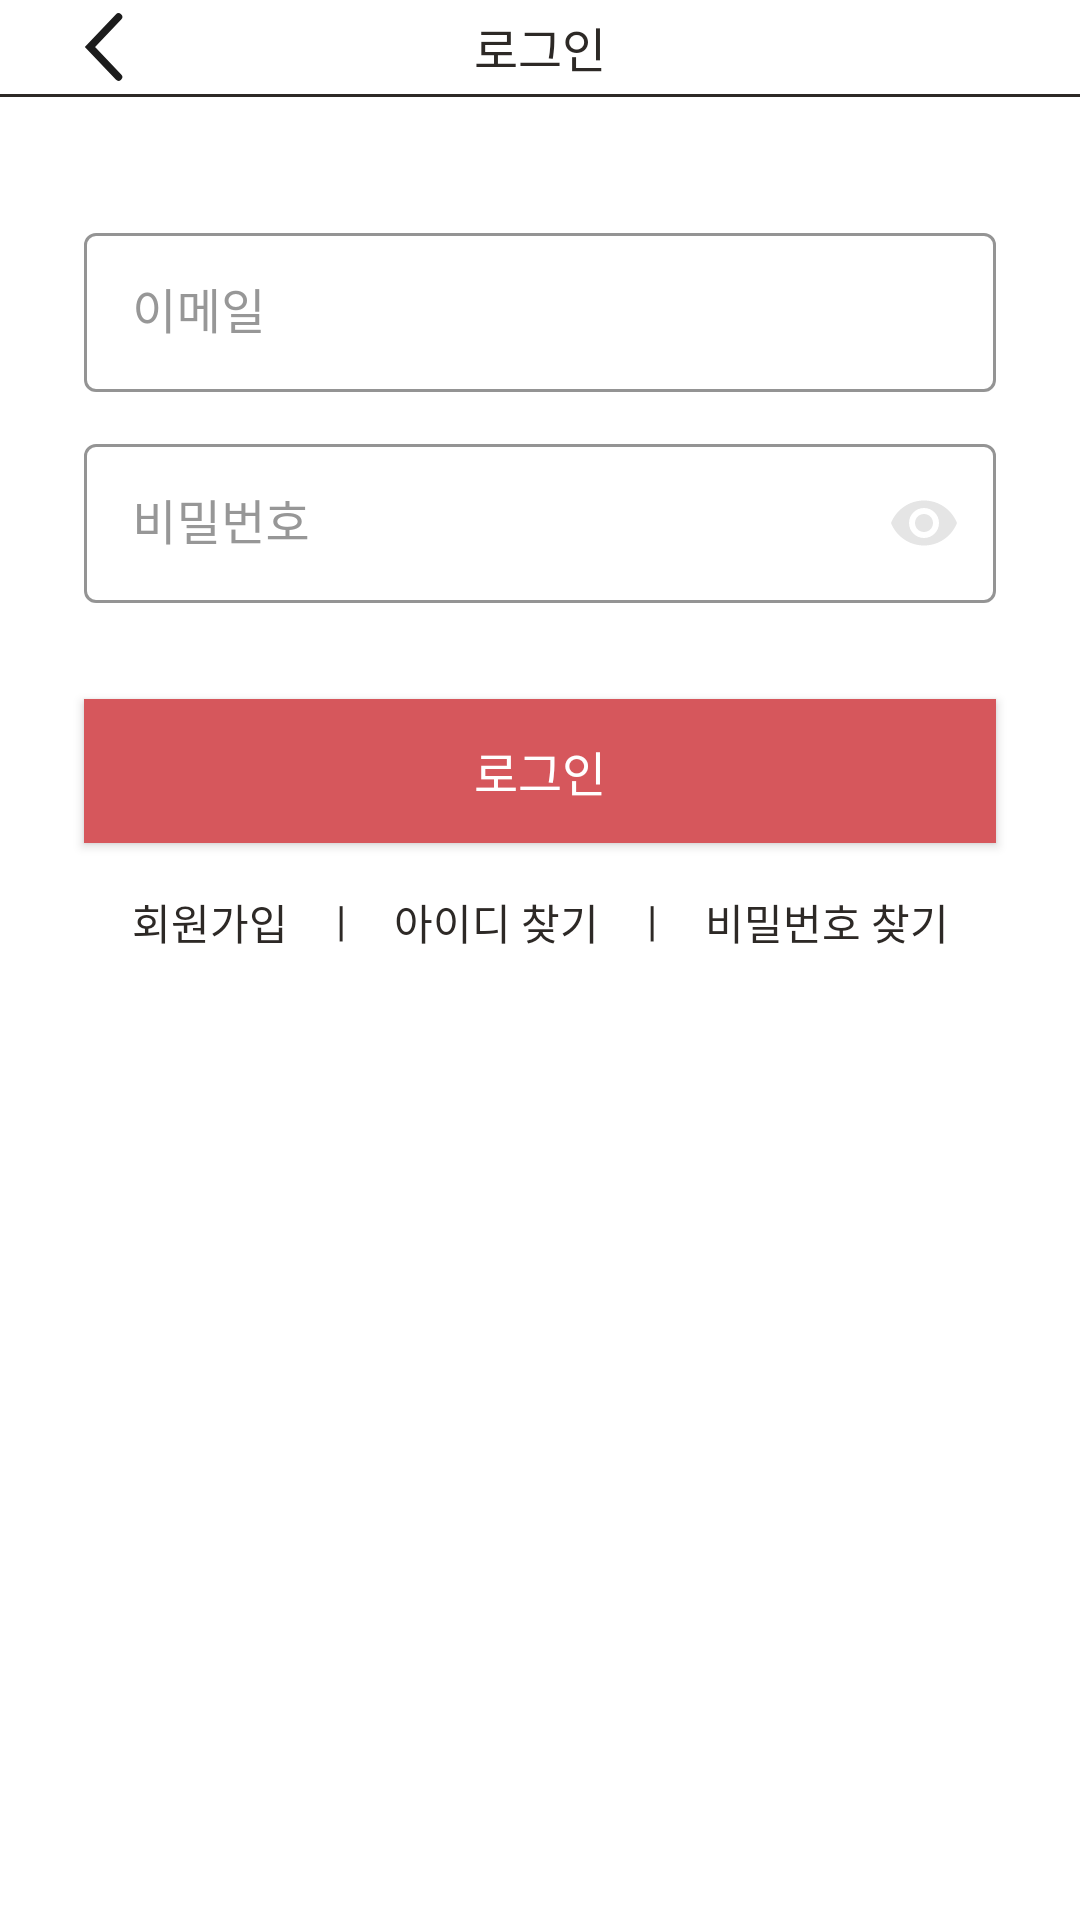

Icons on this 1080 × 1920 Android screen, each with the point to tap as (x,y):
login back: (104,47)
